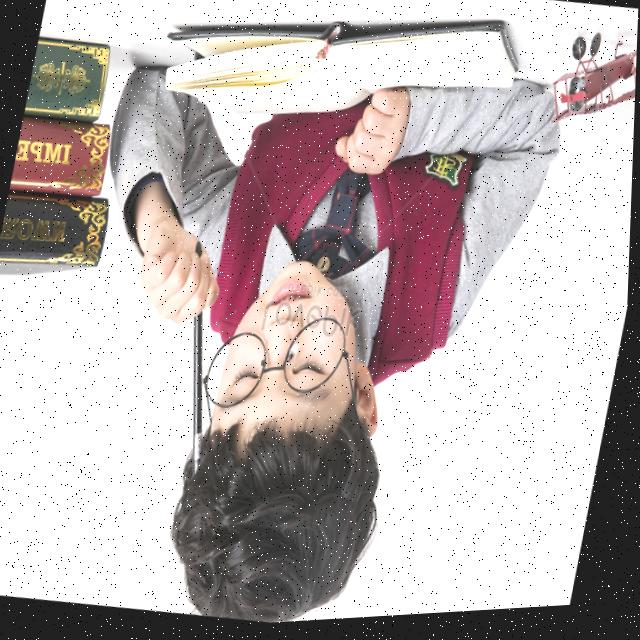studying-person: (22, 0, 594, 638)
